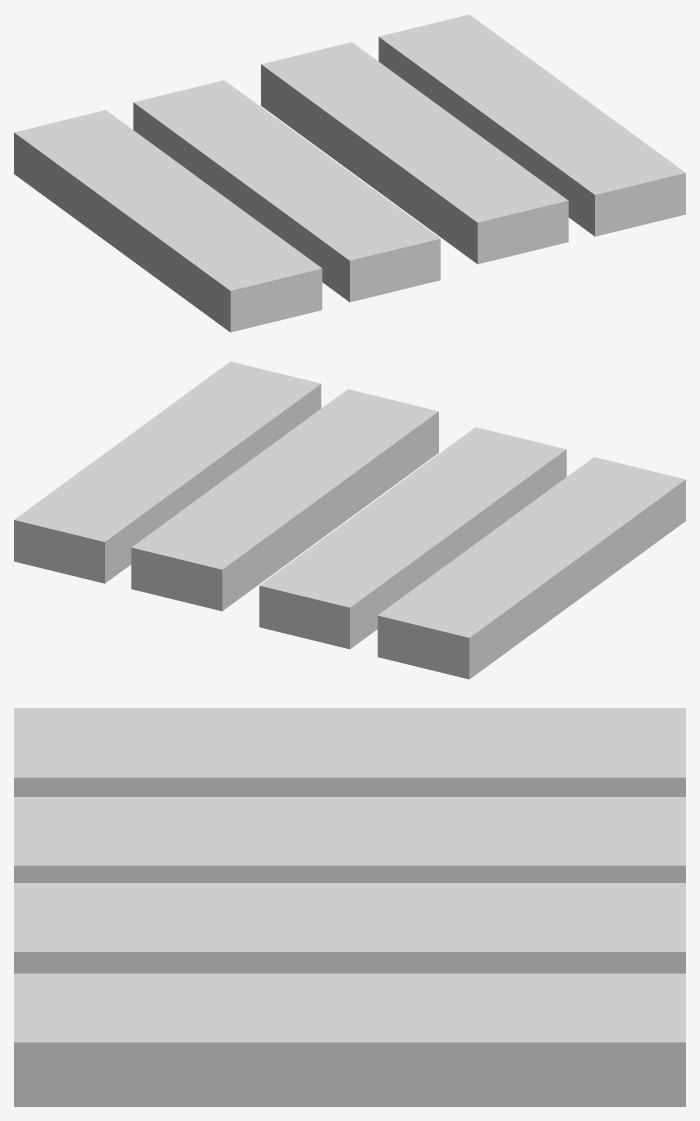
Rendered from crossing.fbx.
3 renders of one model, top to bottom at view 1: azimuth 30°, elevation 25°; view 2: azimuth 150°, elevation 25°; view 3: azimuth 270°, elevation 25°, orthographic. The views are drawn at different scales.
Parts seen in each view (by area): view 1: node_id48 (×4); view 2: node_id48 (×4); view 3: node_id48 (×4).
Boxes of the visible parts, bbox=[...] form: node_id48 (×4): bbox=[14, 14, 685, 332]; node_id48 (×4): bbox=[14, 361, 685, 679]; node_id48 (×4): bbox=[14, 708, 685, 1106].
Size of the model in its own units: 0.454 by 0.0471 by 0.3738.
1 material, 1 textured.
